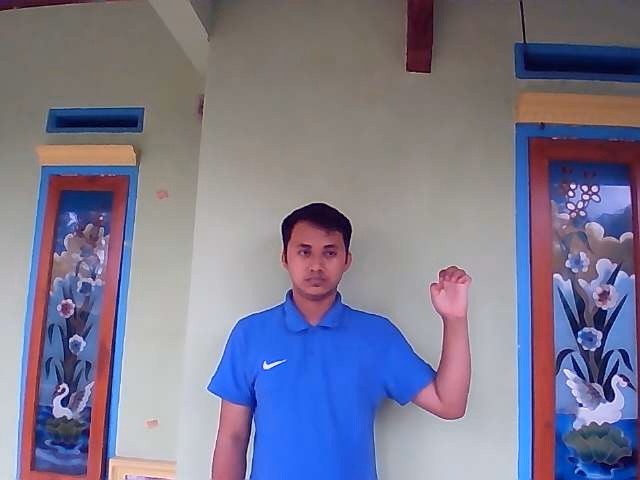E: (428, 263, 473, 321)
